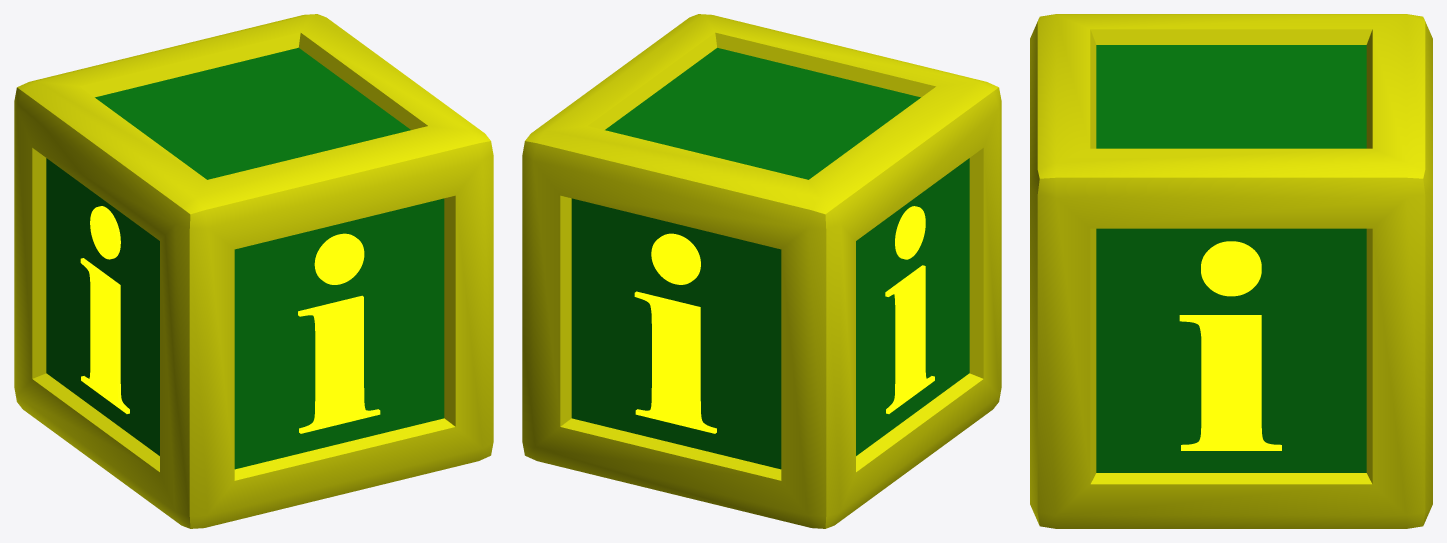
Rendered from ers-info.glb.
The picture shows the model from 3 angles, left to right: view 1: azimuth 30°, elevation 25°; view 2: azimuth 150°, elevation 25°; view 3: azimuth 270°, elevation 25°; orthographic projection. The views are drawn at different scales.
Parts seen in each view (by area): view 1: InfoSpot_nohitbox; view 2: InfoSpot_nohitbox; view 3: InfoSpot_nohitbox.
Part boxes in pixels (x1=…): InfoSpot_nohitbox: x1=14, y1=14, x2=493, y2=528; InfoSpot_nohitbox: x1=522, y1=14, x2=1001, y2=528; InfoSpot_nohitbox: x1=1030, y1=14, x2=1432, y2=528.
Bounding box in the file's own units: 1 × 1 × 1.
